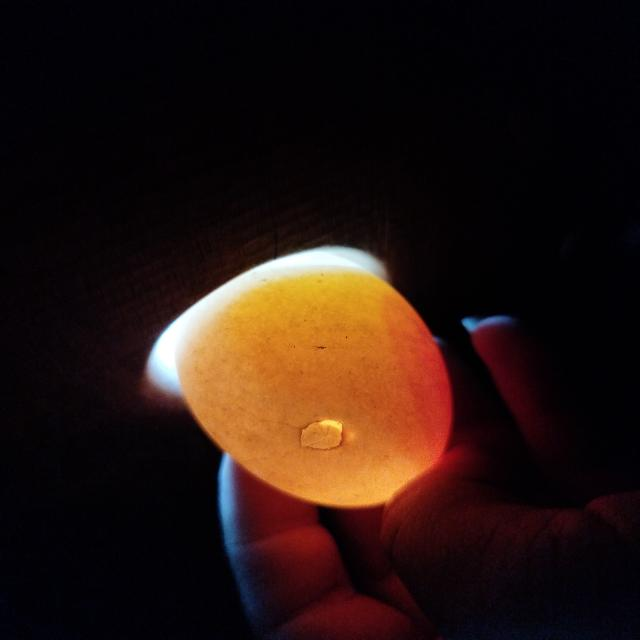Rachadura: (299, 419, 345, 450)
